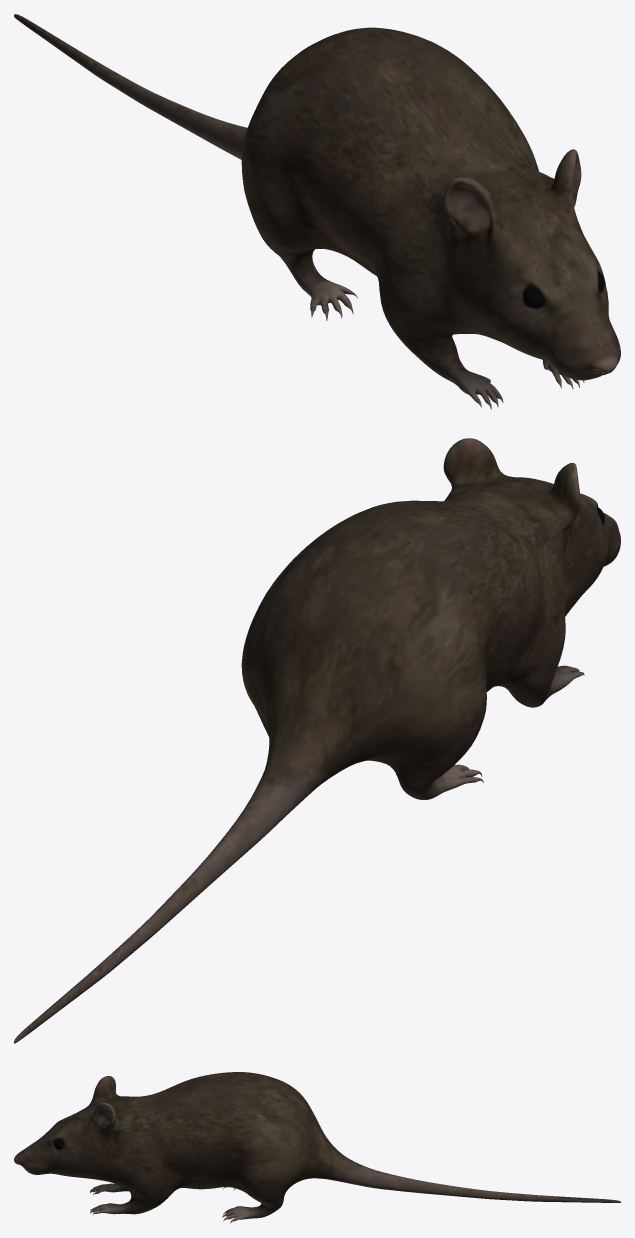
File: street_rat.glb
The picture shows the model from 3 angles, top to bottom: view 1: azimuth 30°, elevation 25°; view 2: azimuth 150°, elevation 25°; view 3: azimuth 270°, elevation 25°; orthographic projection. The views are drawn at different scales.
Visible parts, largest first — view 1: street_rat; view 2: street_rat; view 3: street_rat.
Boxes of the visible parts, bbox=[...] form: street_rat: bbox=[14, 14, 620, 409]; street_rat: bbox=[14, 438, 620, 1043]; street_rat: bbox=[14, 1072, 620, 1223].
Size of the model in its own units: 0.032 by 0.0339 by 0.1483.
1 material, 1 textured.
